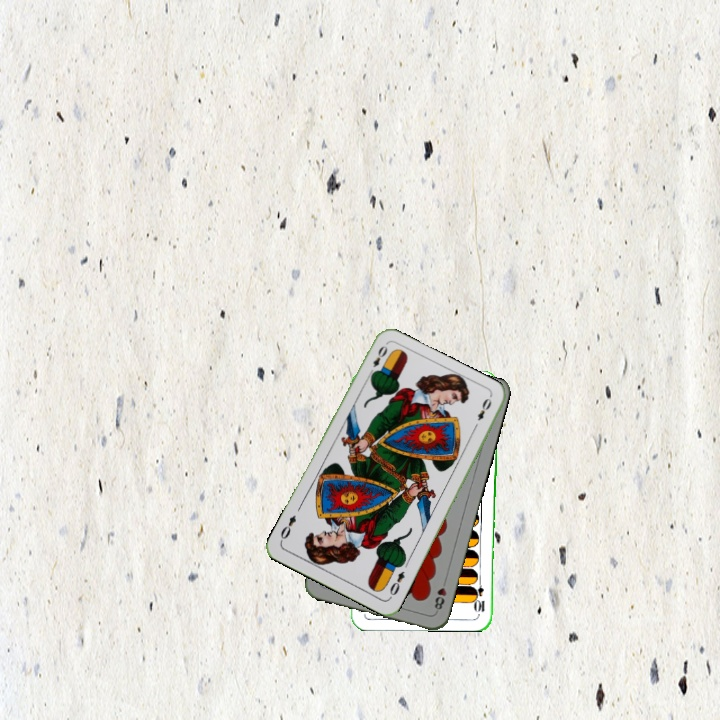E10: (473, 574, 487, 615)
EO: (365, 341, 390, 379), (385, 567, 407, 598)
H8: (430, 575, 449, 615)
